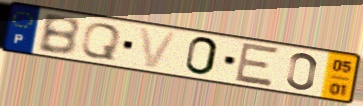0: (184, 36, 220, 78), (285, 52, 319, 91)
B: (35, 13, 82, 57)
E: (232, 41, 282, 88)
Q: (78, 22, 124, 62)
V: (137, 25, 181, 71)
